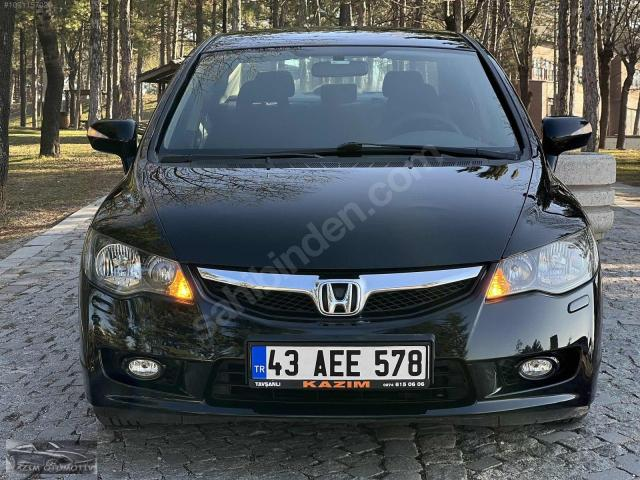plaka: (249, 344, 433, 388)
